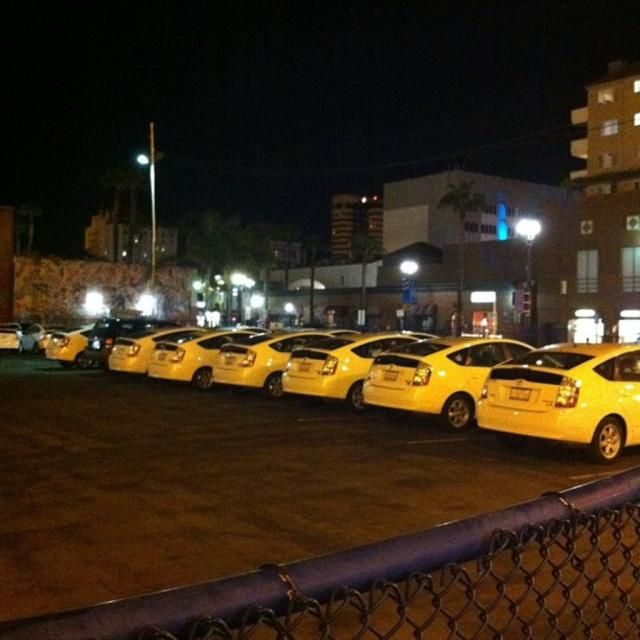car: (466, 332, 631, 464)
